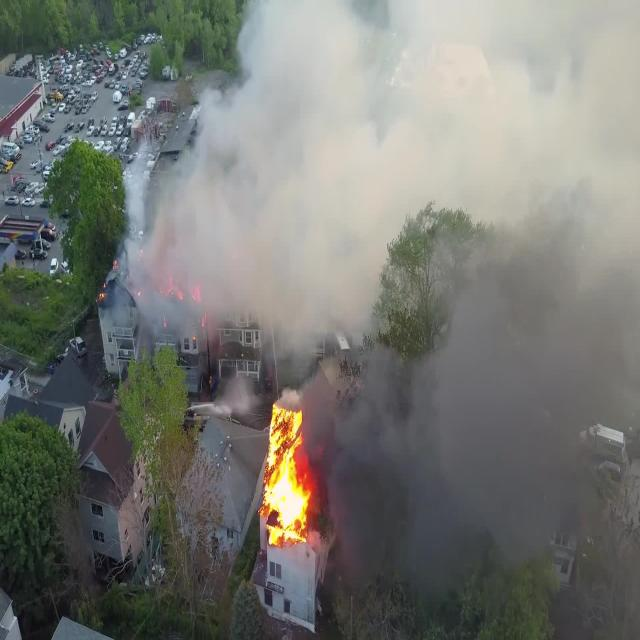Fire: (98, 254, 209, 325), (258, 402, 313, 542)
Smoke: (121, 7, 640, 316), (329, 296, 640, 580)
